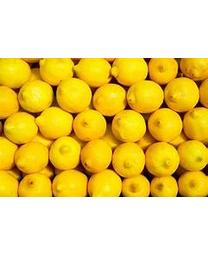lemon: (162, 76, 199, 112), (37, 103, 74, 138), (17, 80, 55, 113), (55, 79, 93, 112), (111, 109, 147, 143), (127, 81, 163, 115), (49, 135, 82, 172), (91, 83, 129, 115), (73, 58, 112, 88), (147, 107, 183, 139), (15, 139, 52, 170), (109, 59, 148, 87), (147, 143, 181, 175), (81, 140, 113, 172), (4, 114, 39, 143), (114, 144, 145, 176), (74, 108, 106, 139), (50, 172, 88, 196), (179, 140, 207, 169), (178, 169, 207, 194), (185, 107, 207, 137)
